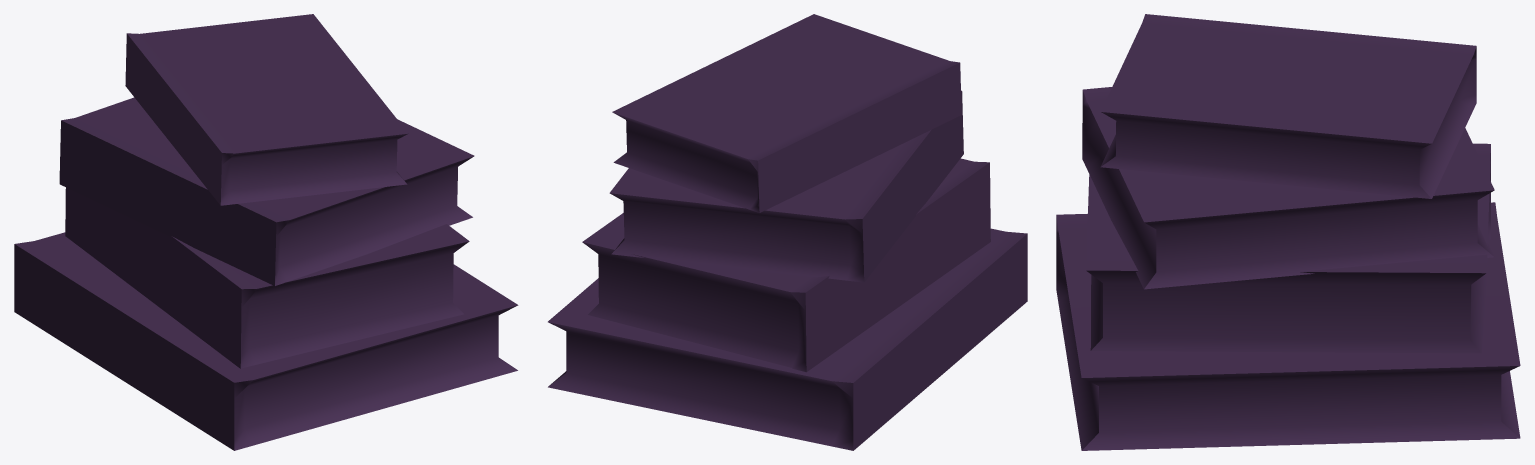
The model's file is DD_10_libraryStack_HENRY.fbx.
The picture shows the model from 3 angles, left to right: view 1: azimuth 30°, elevation 25°; view 2: azimuth 150°, elevation 25°; view 3: azimuth 270°, elevation 25°; orthographic projection. The views are drawn at different scales.
Parts seen in each view (by area): view 1: DD_10_libraryStack; view 2: DD_10_libraryStack; view 3: DD_10_libraryStack.
Part boxes in pixels (x1,y1,x2,y2): DD_10_libraryStack: [14, 14, 518, 450]; DD_10_libraryStack: [548, 14, 1027, 450]; DD_10_libraryStack: [1056, 14, 1520, 450].
Size of the model in its own units: 4.48 by 3.53 by 5.09.
